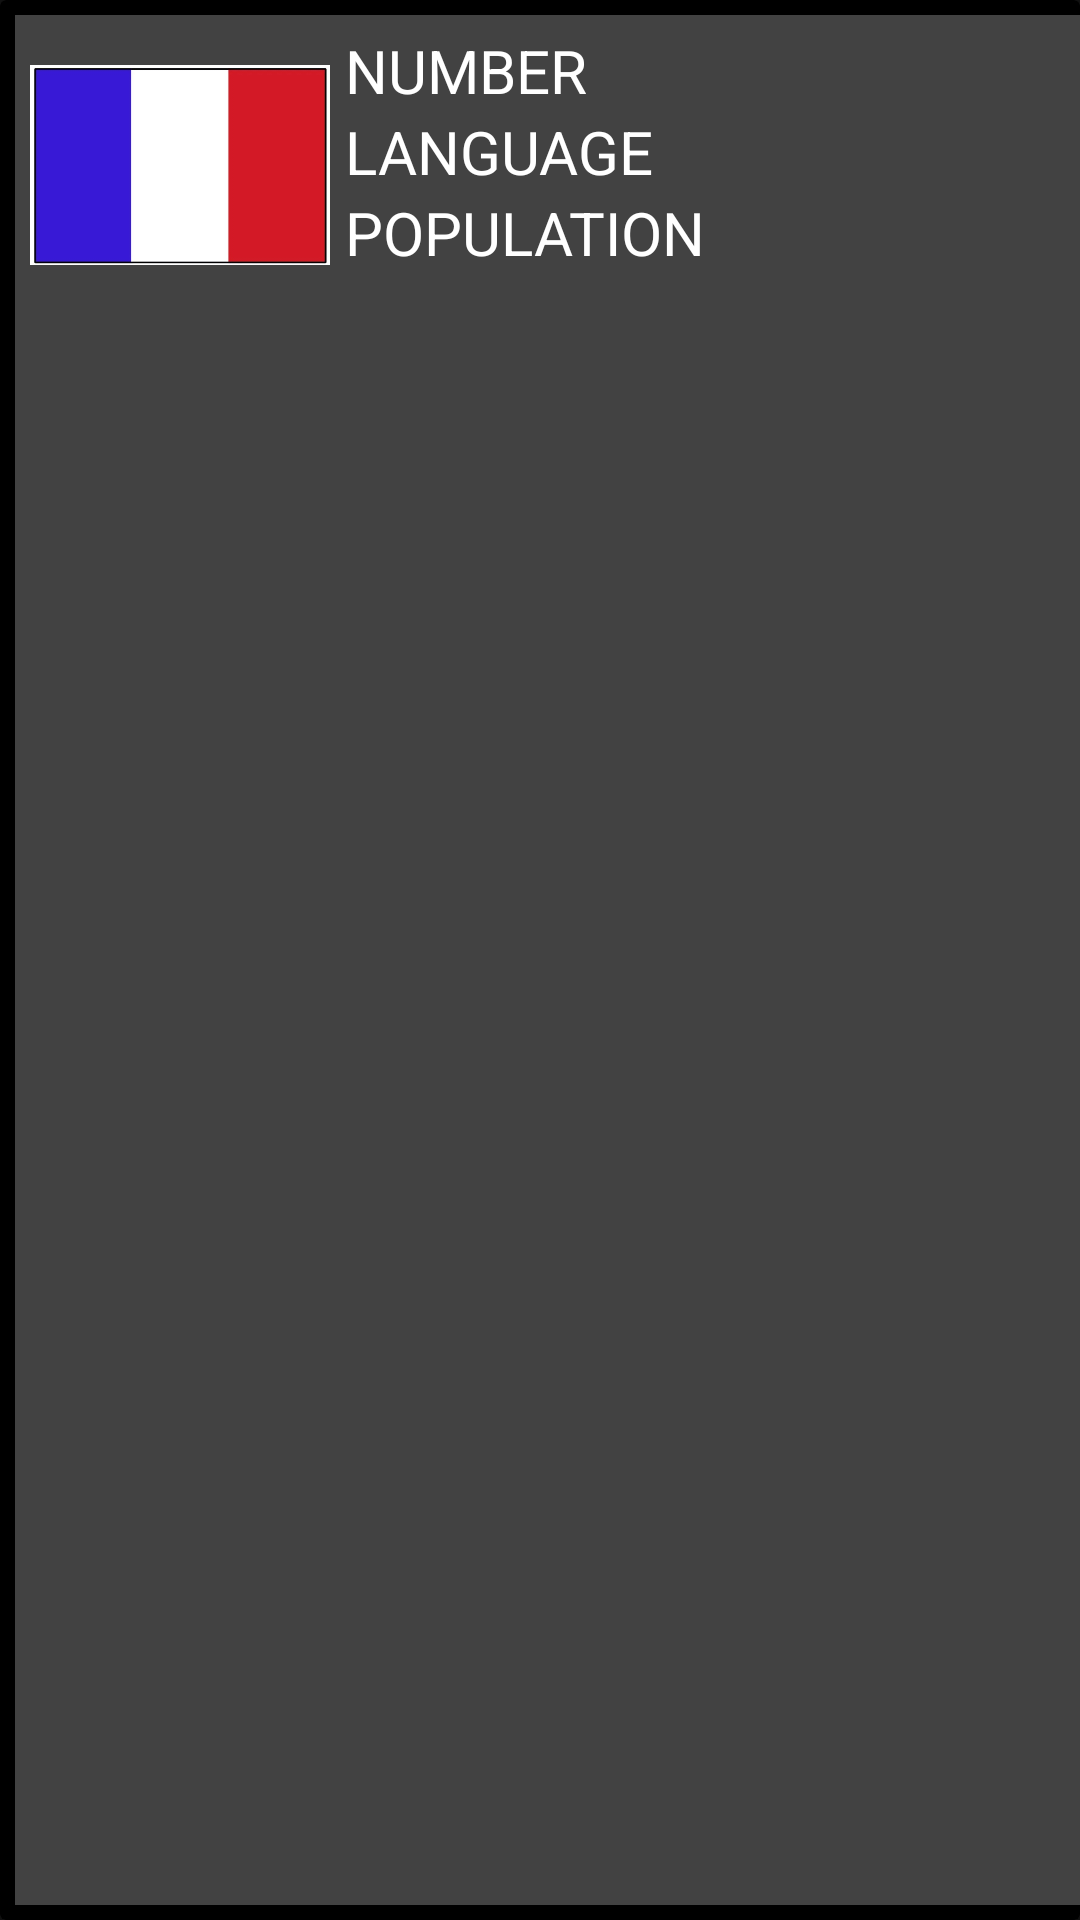

Where icons sit on this 1080px×1920px app screen, as {"left": x1, "top": y1, "right": x2, "bottom": y2}:
flag: {"left": 30, "top": 65, "right": 330, "bottom": 265}
